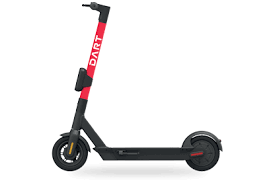kick_board: (52, 2, 223, 171)
kick_body: (98, 148, 182, 160)
kick_handler: (82, 2, 110, 22)
kick_neck: (73, 23, 106, 125)
kick_wheel: (183, 131, 221, 171), (51, 133, 88, 171)
